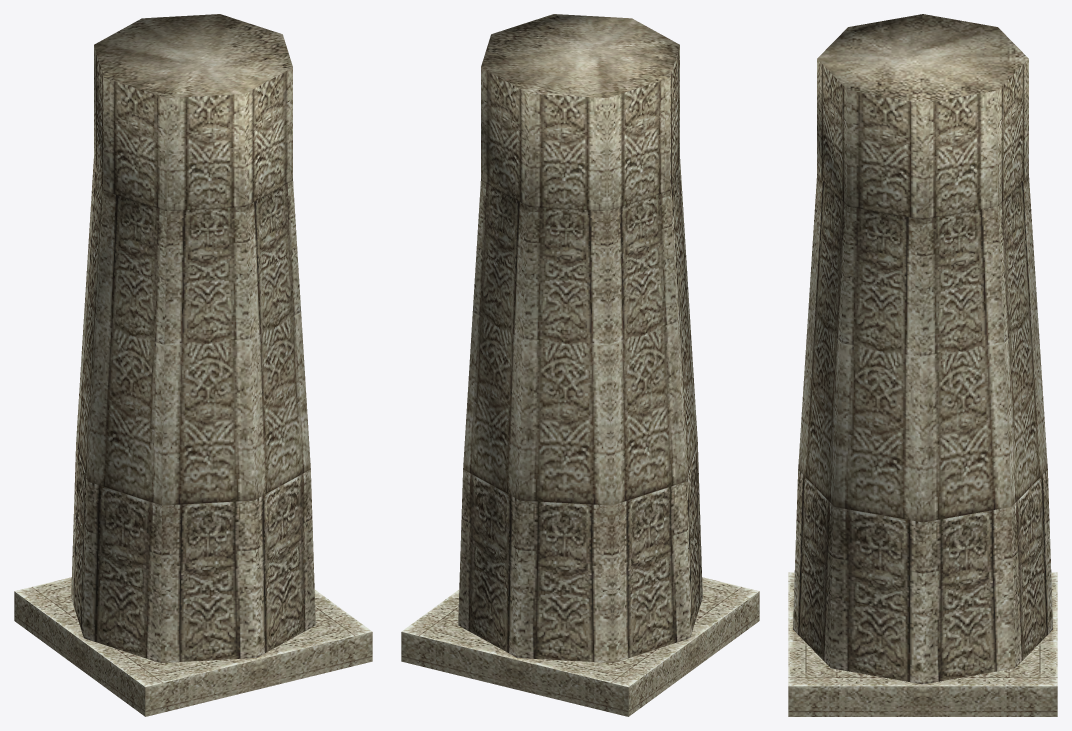
The model's file is general_obj_bigtoewr10.fbx.
3 renders of one model, left to right at view 1: azimuth 30°, elevation 25°; view 2: azimuth 150°, elevation 25°; view 3: azimuth 270°, elevation 25°, orthographic. The views are drawn at different scales.
Parts seen in each view (by area): view 1: Sphere01; view 2: Sphere01; view 3: Sphere01.
Part boxes in pixels (bbox=[...]): Sphere01: bbox=[14, 14, 372, 716]; Sphere01: bbox=[401, 14, 759, 716]; Sphere01: bbox=[788, 14, 1057, 716].
Size of the model in its own units: 4 by 9.84 by 4.
